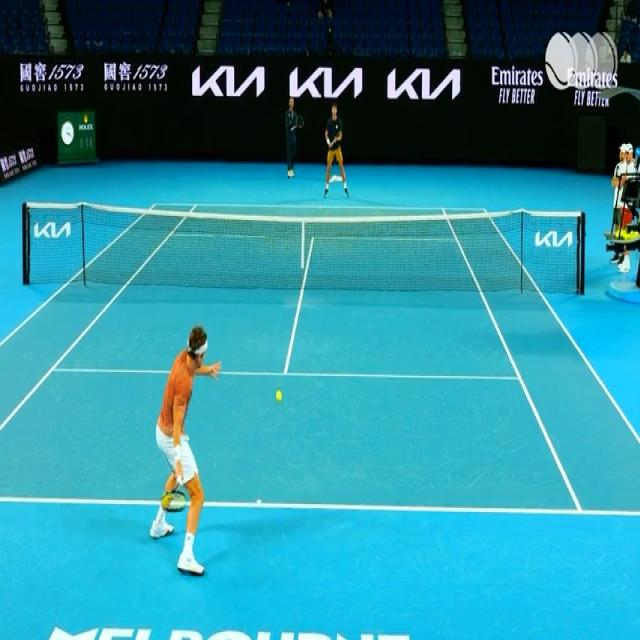forehand-ready: (151, 322, 220, 574)
